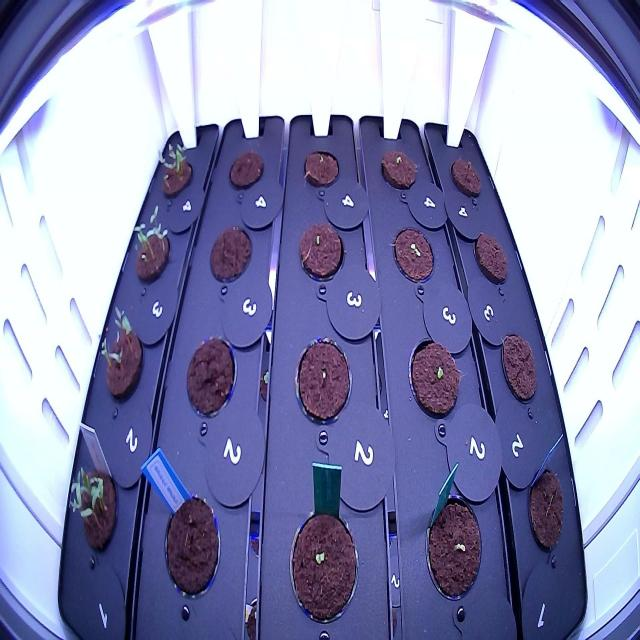germination: (284, 502, 365, 636), (418, 484, 490, 610), (94, 300, 148, 416), (65, 459, 121, 558), (129, 199, 174, 293), (294, 215, 347, 286), (388, 221, 437, 289), (153, 136, 196, 204)
pod: (157, 489, 225, 604), (292, 330, 356, 436), (180, 328, 239, 432), (403, 332, 464, 427), (522, 460, 566, 564), (496, 328, 541, 413), (205, 221, 255, 295), (466, 220, 512, 290), (376, 143, 419, 200), (446, 148, 486, 205), (226, 144, 266, 199), (302, 145, 342, 192)
